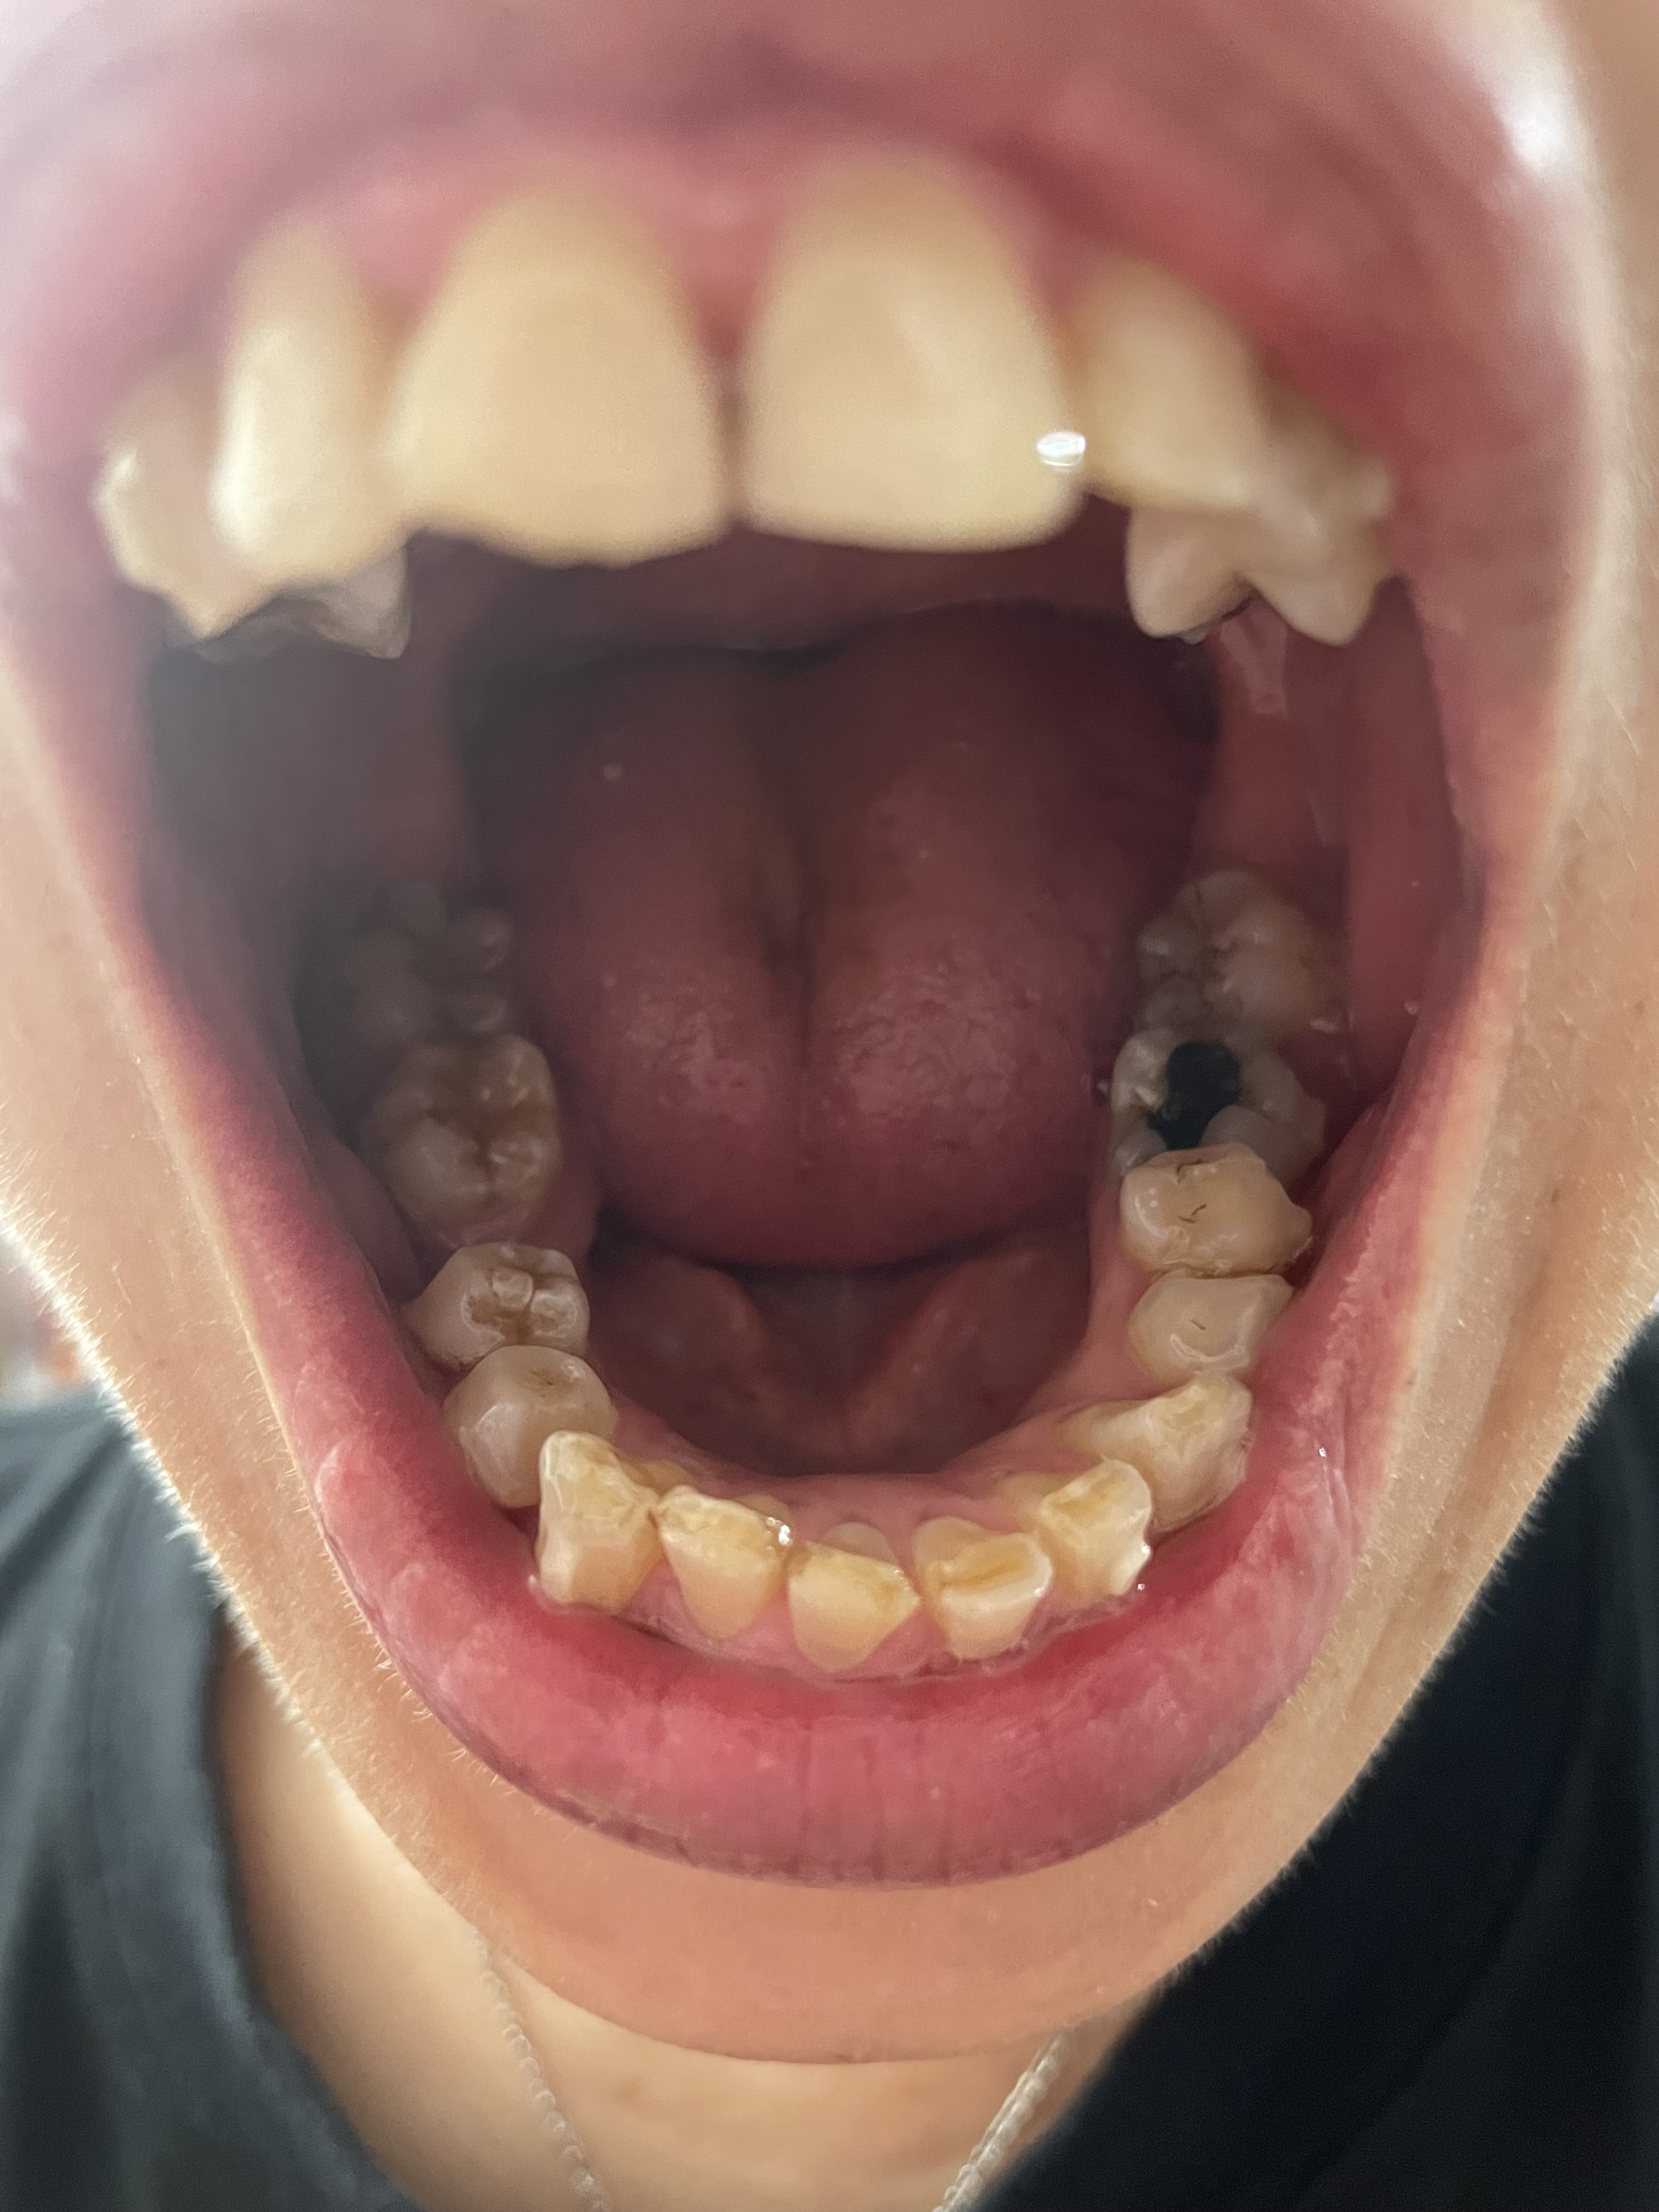teeth: (732, 158, 1072, 528), (394, 174, 735, 538), (218, 249, 389, 570), (1073, 240, 1279, 489), (1073, 1372, 1243, 1517), (1002, 1456, 1143, 1616), (415, 1042, 559, 1188), (918, 1517, 1056, 1658), (538, 1444, 657, 1595), (662, 1491, 779, 1627), (802, 1526, 911, 1667), (1129, 1137, 1265, 1237), (460, 1242, 587, 1338), (504, 1359, 596, 1479), (1169, 1273, 1274, 1360)
